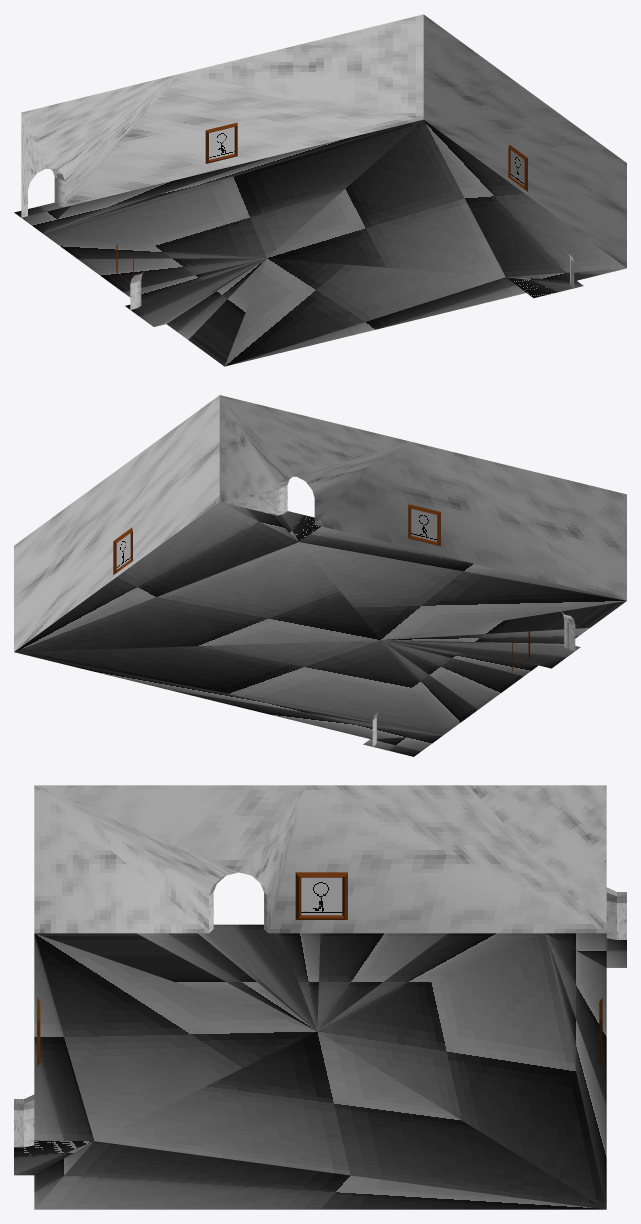
The model's file is Room7.glb.
3 renders of one model, top to bottom at view 1: azimuth 30°, elevation 25°; view 2: azimuth 150°, elevation 25°; view 3: azimuth 270°, elevation 25°, orthographic. The views are drawn at different scales.
Parts seen in each view (by area): view 1: Floor, Wall1, Wall4, Canvas.002; view 2: Floor, Wall3, Wall4, Canvas.004; view 3: Floor, Wall2, Canvas.001, Frame.004, Wall3, Wall1.
Boxes of the visible parts, box(x1,y1,x2,y2) form: Floor: box(14, 119, 626, 366); Wall1: box(21, 14, 423, 217); Wall4: box(423, 14, 626, 267); Canvas.002: box(209, 127, 234, 159); Floor: box(14, 501, 626, 756); Wall3: box(219, 395, 626, 600); Wall4: box(14, 395, 219, 651); Canvas.004: box(411, 509, 436, 541); Floor: box(14, 924, 626, 1209); Wall2: box(34, 785, 606, 933); Canvas.001: box(301, 878, 342, 915); Frame.004: box(295, 872, 347, 919); Wall3: box(14, 1094, 34, 1147); Wall1: box(606, 887, 626, 939).
Size of the model in its own units: 16.5 by 4 by 15.
11 materials, 7 textured.
